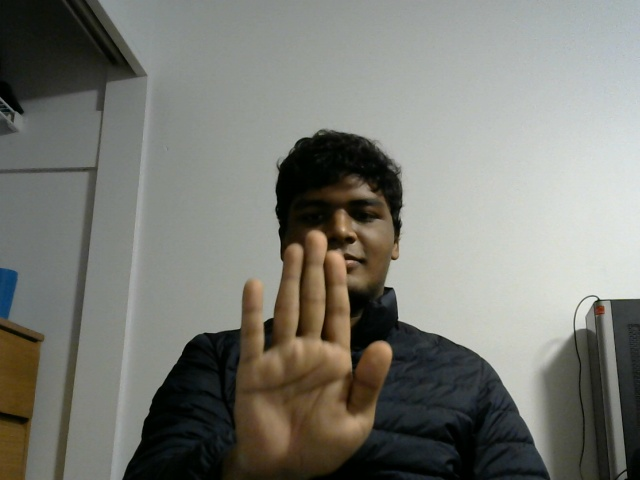Hi: (233, 233, 402, 480)
